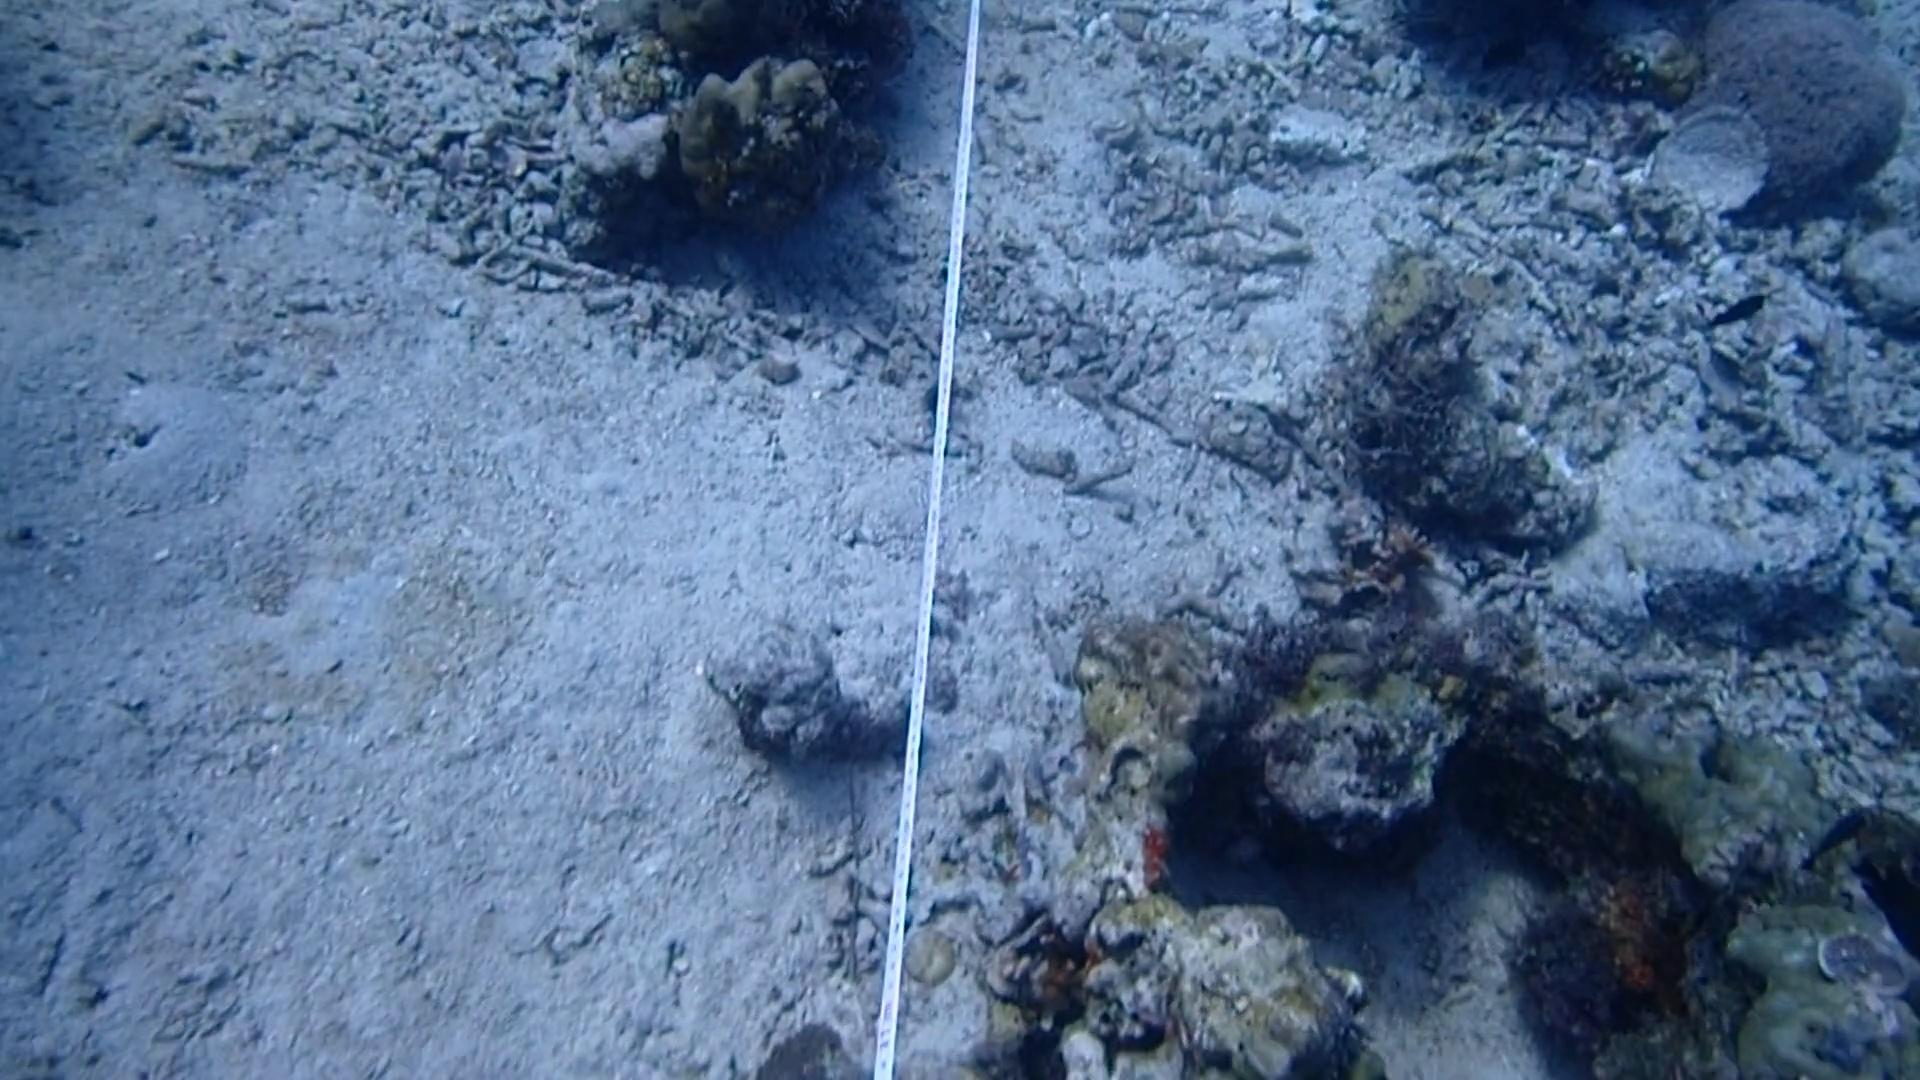Dark Fish: (1829, 823, 1920, 960), (1689, 272, 1778, 340), (1470, 18, 1535, 79)
